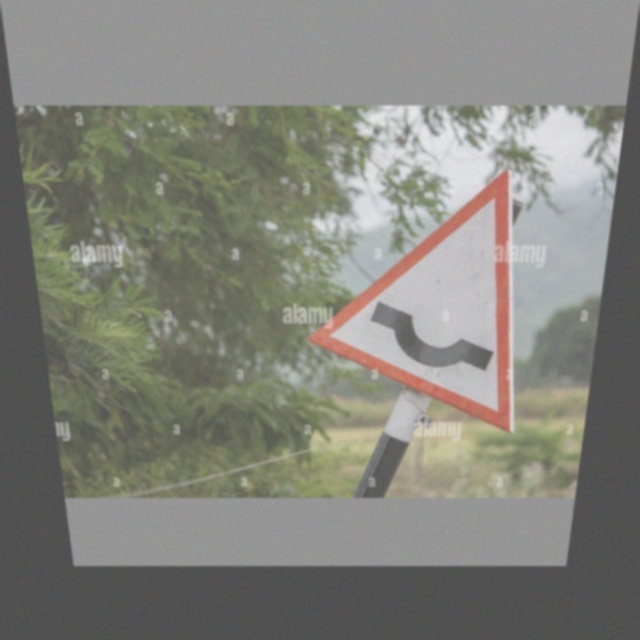Dangerous_Dip: (303, 165, 544, 431)
